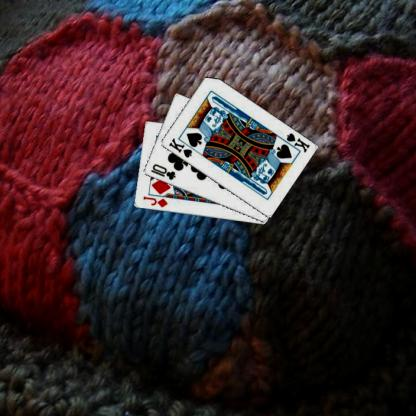10C: (148, 161, 176, 182)
JD: (141, 194, 169, 209)
KS: (279, 130, 311, 154), (166, 136, 193, 159)
